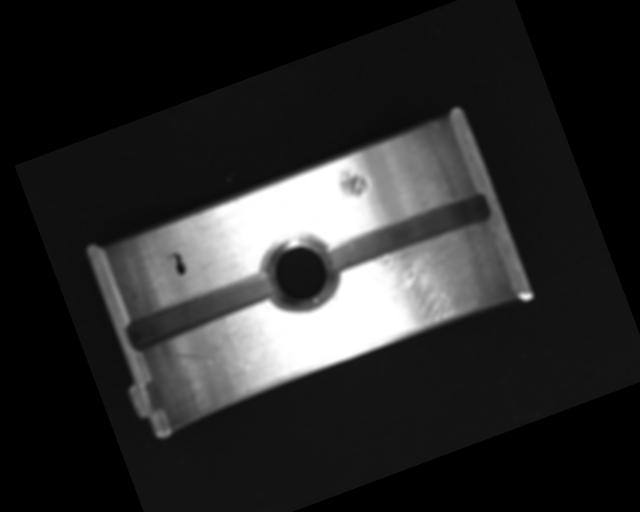blot: (165, 250, 189, 279)
bruise: (333, 160, 371, 202)
gap: (320, 187, 495, 279), (123, 269, 276, 352)
hole: (250, 226, 344, 322)
nick: (166, 327, 253, 394)
scratch: (334, 219, 510, 354)
